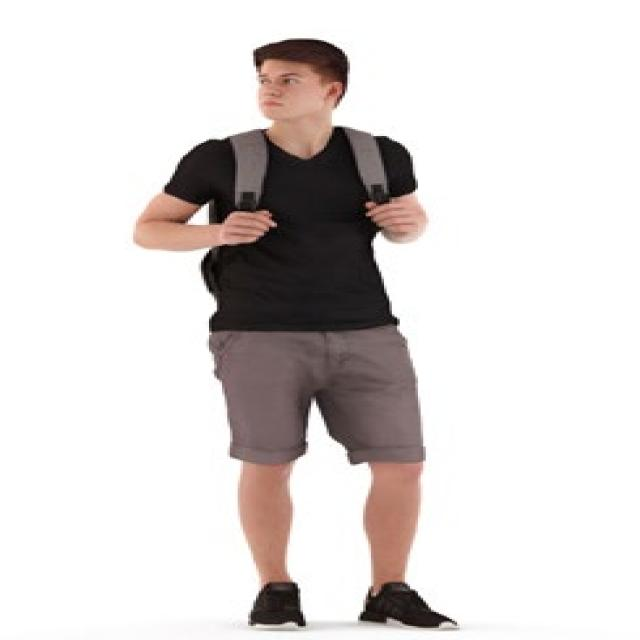standing: (128, 38, 465, 636)
